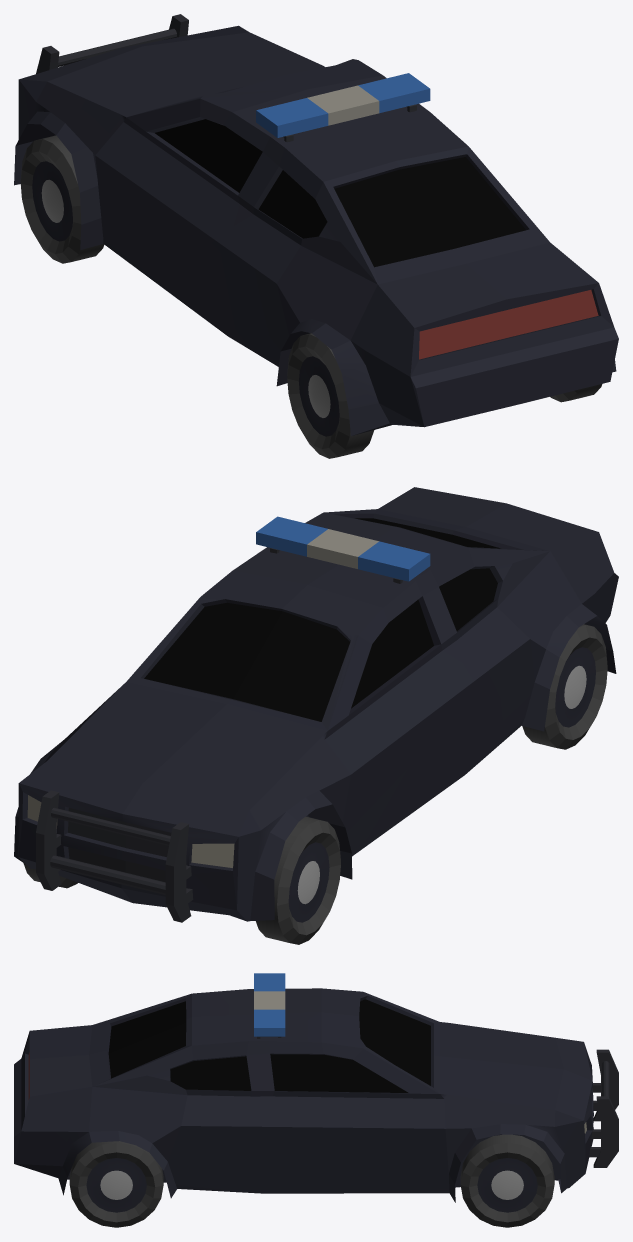
Rendered from gtpd.gltf.
3 renders of one model, top to bottom at view 1: azimuth 30°, elevation 25°; view 2: azimuth 150°, elevation 25°; view 3: azimuth 270°, elevation 25°, orthographic. The views are drawn at different scales.
Visible parts, largest first — view 1: left_half, right_half, wheel_top_left, wheel_bot_left, bar, bumper_itself; view 2: left_half, right_half, wheel_top_left, bumper_itself, wheel_bot_left, bar; view 3: right_half, left_half, wheel_top_right, wheel_bot_right, bumper_itself, bar.
Part boxes in pixels (<box>): left_half: <box>14,46,517,435</box>; right_half: <box>125,25,618,404</box>; wheel_top_left: <box>20,135,104,263</box>; wheel_bot_left: <box>287,333,374,458</box>; bar: <box>256,73,430,137</box>; bumper_itself: <box>36,14,188,73</box>; left_half: <box>121,503,618,921</box>; right_half: <box>14,487,506,902</box>; wheel_top_left: <box>256,816,340,944</box>; bumper_itself: <box>36,790,193,922</box>; wheel_bot_left: <box>522,624,607,749</box>; bar: <box>256,516,430,581</box>; right_half: <box>14,1012,593,1202</box>; left_half: <box>14,988,593,1129</box>; wheel_top_right: <box>460,1134,554,1227</box>; wheel_bot_right: <box>69,1141,163,1227</box>; bumper_itself: <box>589,1049,618,1167</box>; bar: <box>254,973,285,1036</box>.
Size of the model in its own units: 0.0839 by 0.0729 by 0.2203.
